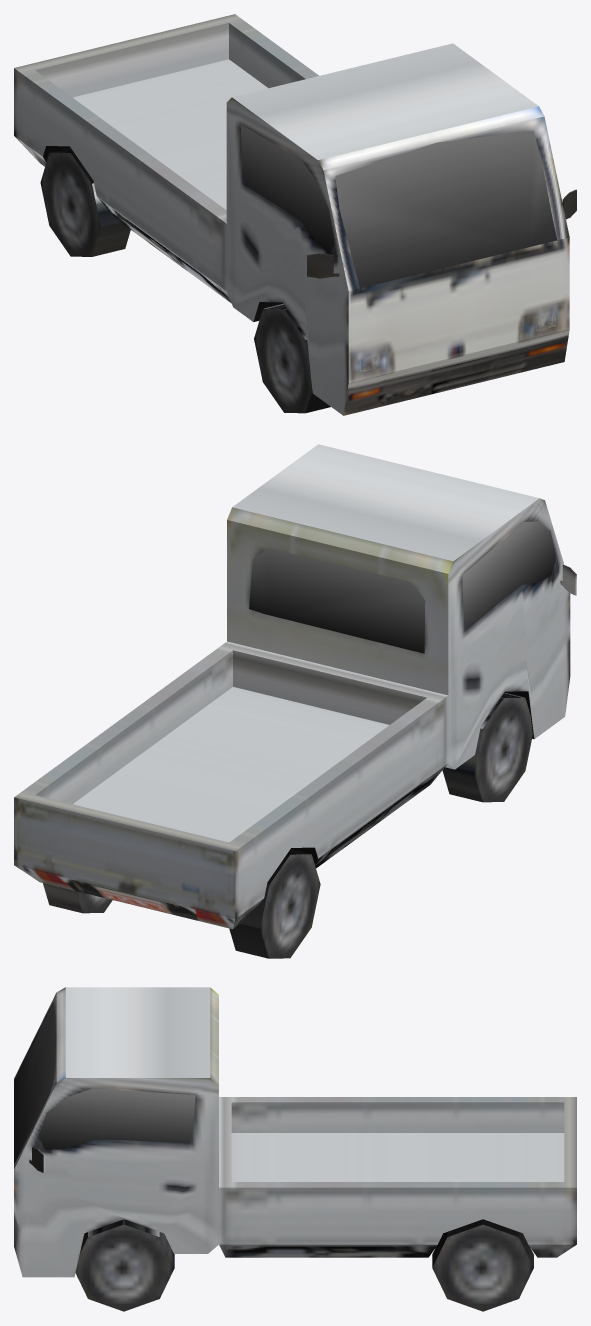
The model's file is Trucky.fbx.
The picture shows the model from 3 angles, top to bottom: view 1: azimuth 30°, elevation 25°; view 2: azimuth 150°, elevation 25°; view 3: azimuth 270°, elevation 25°; orthographic projection. The views are drawn at different scales.
Visible parts, largest first — view 1: Trucky, PointLight; view 2: Trucky; view 3: Trucky.
Boxes of the visible parts, x1,y1,x2,y2 form: Trucky: (14, 14, 576, 415); PointLight: (360, 312, 555, 371); Trucky: (14, 444, 576, 958); Trucky: (14, 987, 576, 1311).
Size of the model in its own units: 186 by 183 by 400.
1 material, 1 textured.
